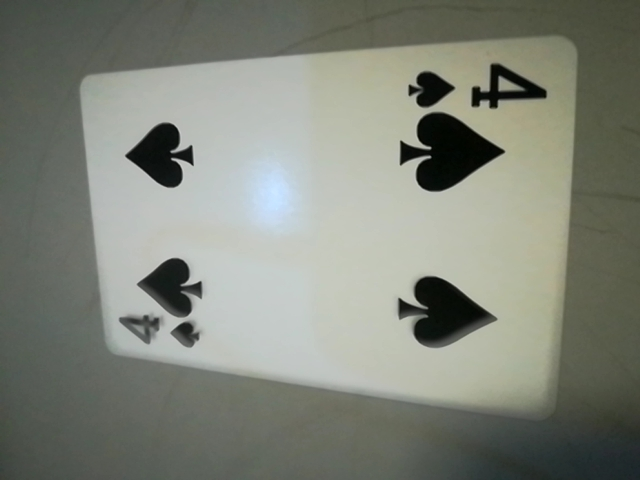ht 4: (398, 58, 564, 121)
